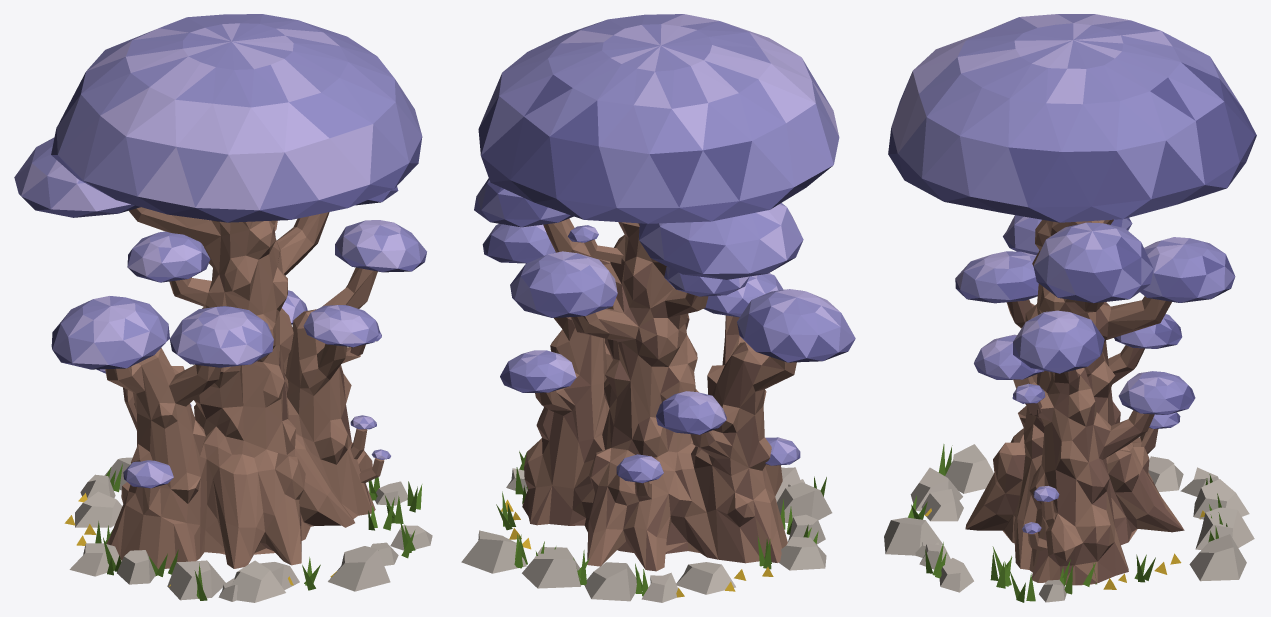
The model's file is giant_mushroom_bare.glb.
The picture shows the model from 3 angles, left to right: view 1: azimuth 30°, elevation 25°; view 2: azimuth 150°, elevation 25°; view 3: azimuth 270°, elevation 25°; orthographic projection.
Parts seen in each view (by area): view 1: giant_mushroom_bare; view 2: giant_mushroom_bare; view 3: giant_mushroom_bare.
Part boxes in pixels (box(x1,y1,x2,y2)): giant_mushroom_bare: box(14, 14, 432, 602); giant_mushroom_bare: box(461, 14, 855, 602); giant_mushroom_bare: box(884, 14, 1256, 602).
Size of the model in its own units: 17.12 by 22.14 by 15.44.
